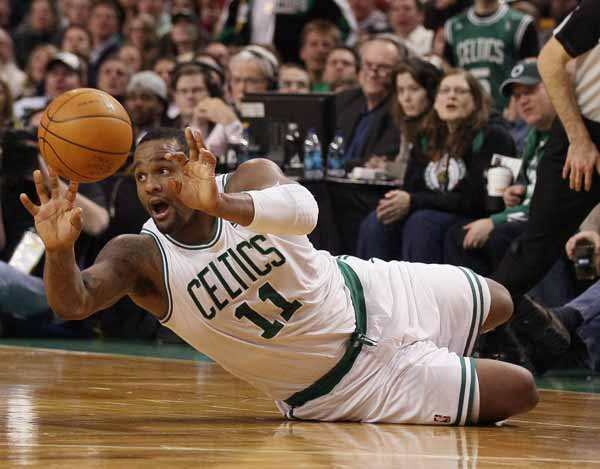10+: (1, 4, 593, 357)
down: (24, 123, 544, 435)
